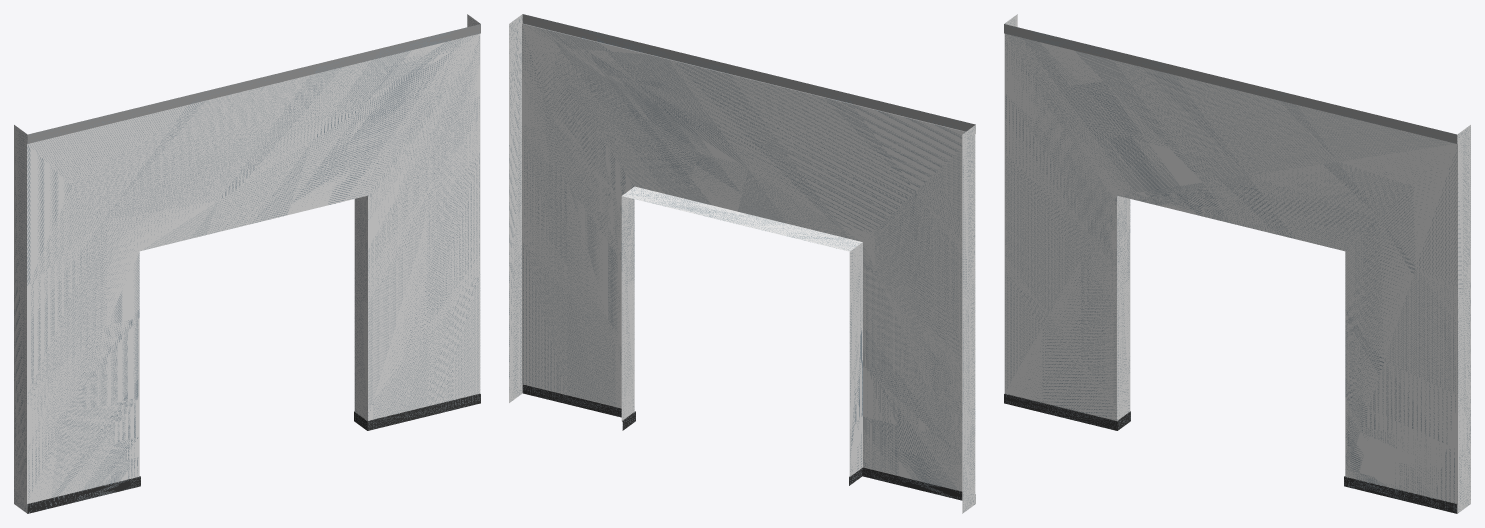
The model's file is BlockWall_os_plinth_[500x400x025]_102x220_double_doorway.dae.
The picture shows the model from 3 angles, left to right: view 1: azimuth 30°, elevation 25°; view 2: azimuth 150°, elevation 25°; view 3: azimuth 330°, elevation 25°; orthographic projection.
Parts seen in each view (by area): view 1: group_0 (×4); view 2: group_0 (×4); view 3: group_0 (×4).
Part boxes in pixels (x1=…): group_0 (×4): x1=14, y1=14, x2=480, y2=513; group_0 (×4): x1=509, y1=14, x2=975, y2=513; group_0 (×4): x1=1004, y1=14, x2=1470, y2=513.
Bounding box in the file's own units: 197 × 10.24 × 157.
